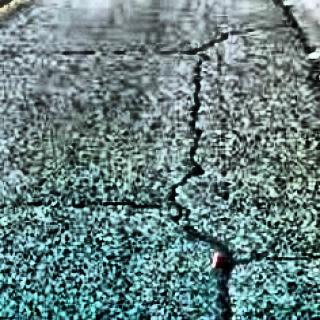crack: (172, 42, 215, 230), (177, 215, 249, 320), (200, 16, 287, 56), (19, 192, 162, 216), (51, 49, 179, 68)
